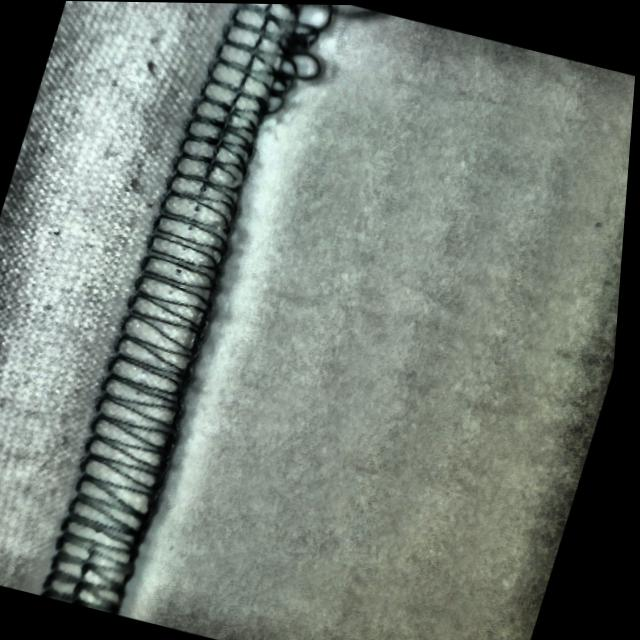Stitch: (189, 2, 372, 132)
